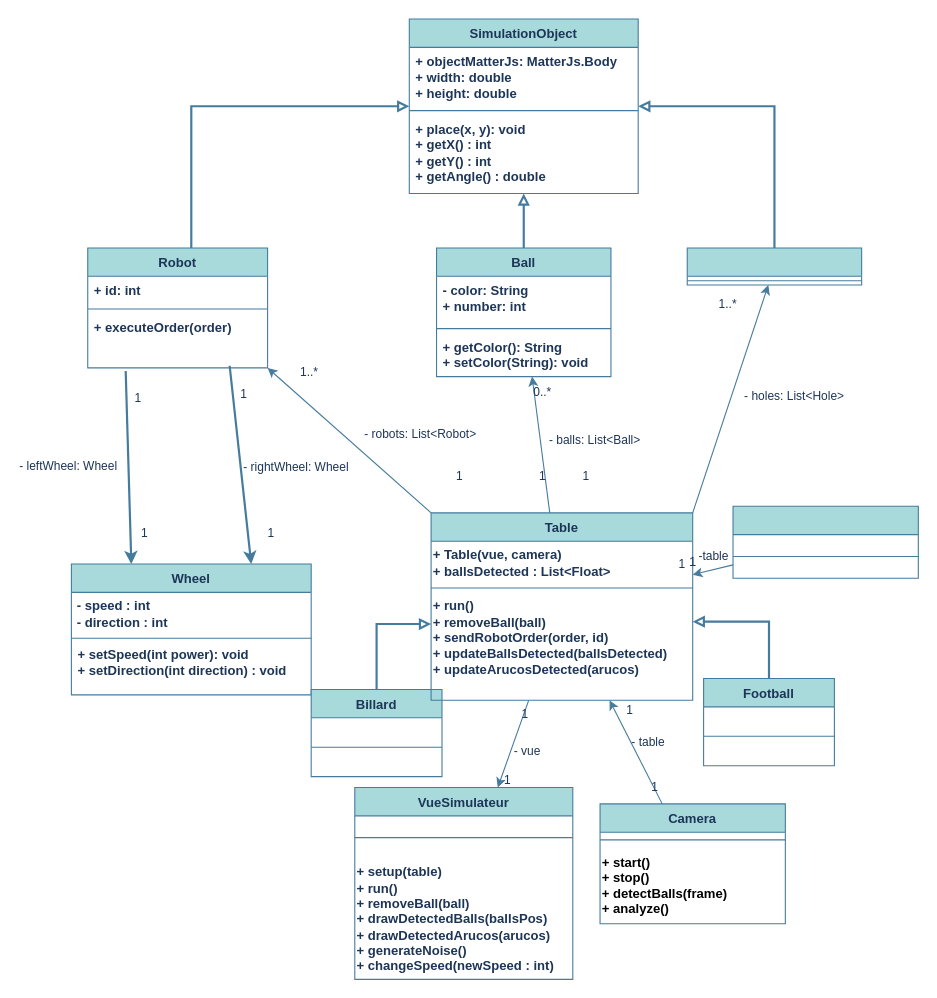
The diagram is 937 pixels wide and 998 high, and some of its shapes have lost their labels. The centre of each missing label's shape, as x and y in pixels:
CollisionController: (825,541)
Hole: (774,266)
